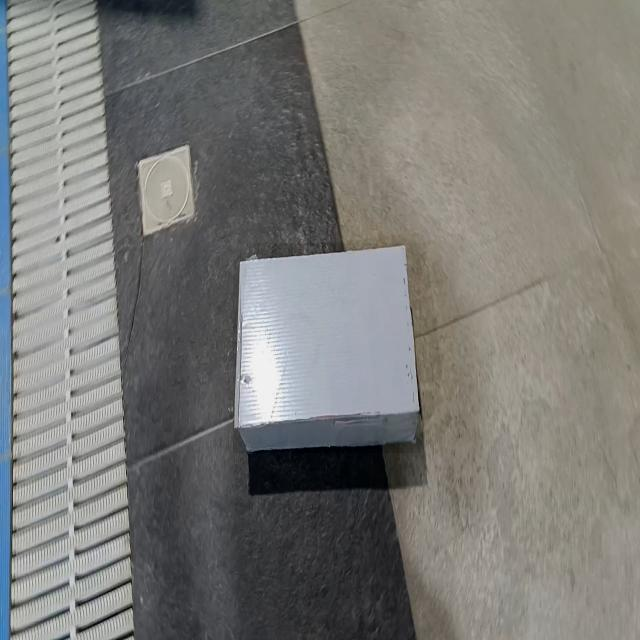Cuboid: (233, 244, 421, 454)
